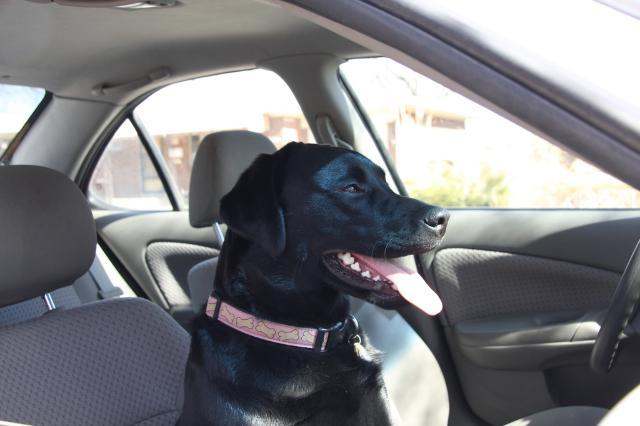Seatbelt: (90, 254, 122, 300)
